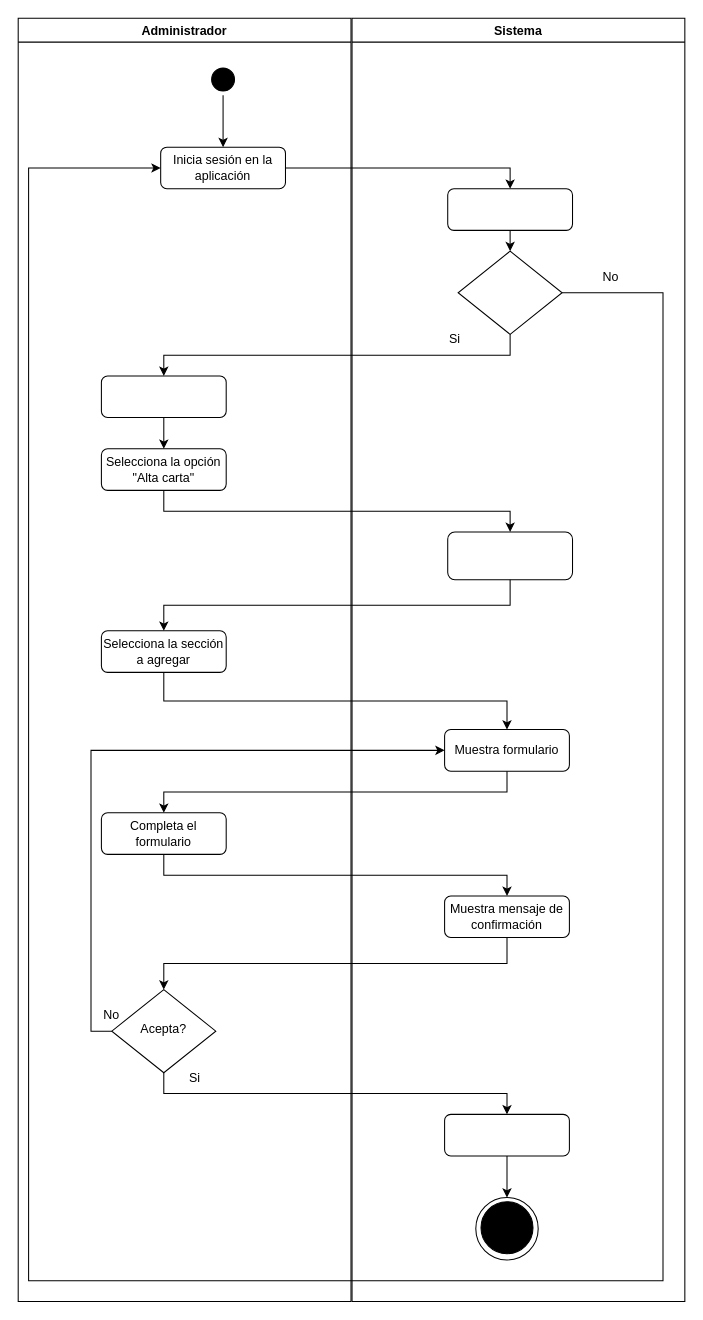
The diagram is 703 pixels wide and 1320 high, and some of its shapes have lost their labels. The centre of each missing label's shape, as x and y in pixels:
Control ok?: [509,292]
Controla los datos: [510,209]
Ingresa al menú principal: [163,396]
Modifica la carta: [506,1134]
Muestra toda la carta: [510,555]
